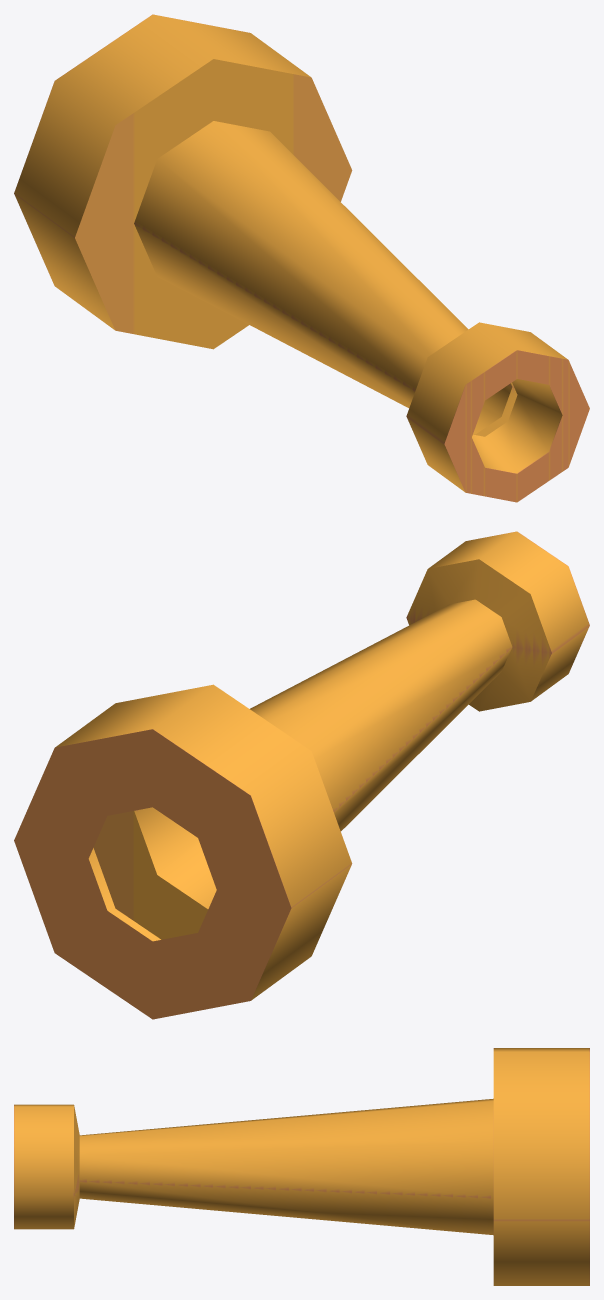
File: hose_head.fbx
3 views of the same model, one above another, from view 1: azimuth 30°, elevation 25°; view 2: azimuth 150°, elevation 25°; view 3: azimuth 270°, elevation 25° (orthographic). The views are drawn at different scales.
Visible parts, largest first — view 1: hose_head; view 2: hose_head; view 3: hose_head.
Part boxes in pixels (x1=…): hose_head: x1=14, y1=14, x2=589, y2=502; hose_head: x1=14, y1=531, x2=589, y2=1019; hose_head: x1=14, y1=1048, x2=589, y2=1285.
Size of the model in its own units: 0.8658 by 0.8658 by 1.97.
